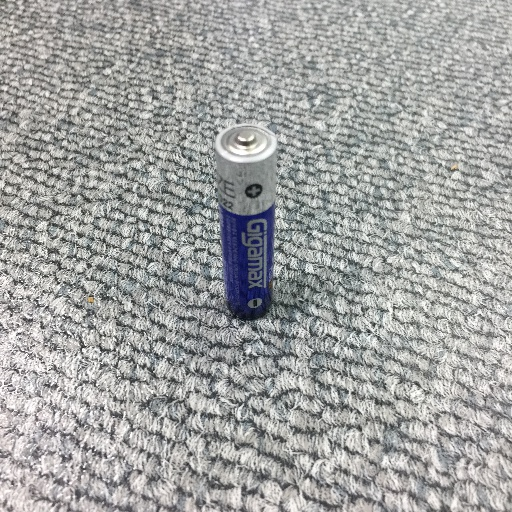Battery_0: (205, 118, 283, 326)
